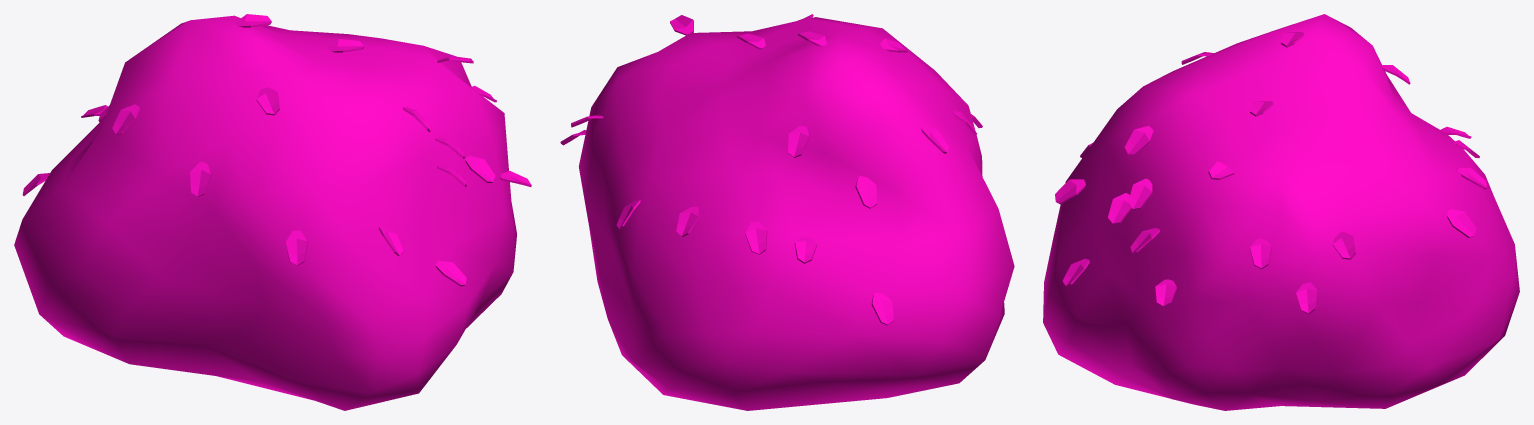
Rendered from BushLeafy.fbx.
The picture shows the model from 3 angles, left to right: view 1: azimuth 30°, elevation 25°; view 2: azimuth 150°, elevation 25°; view 3: azimuth 270°, elevation 25°; orthographic projection.
Parts seen in each view (by area): view 1: BushLeafy; view 2: BushLeafy; view 3: BushLeafy.
Boxes of the visible parts, x1,y1,x2,y2 form: BushLeafy: [14, 14, 531, 410]; BushLeafy: [560, 14, 1014, 410]; BushLeafy: [1043, 14, 1519, 410].
Size of the model in its own units: 78.21 by 56.11 by 74.1.
